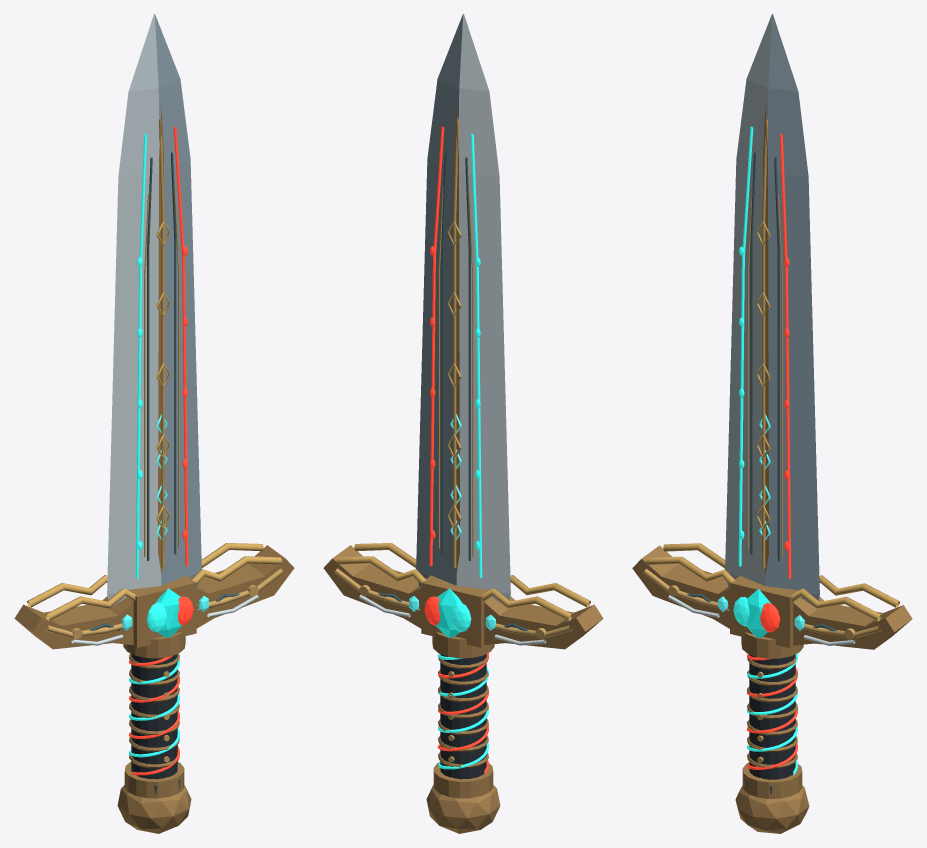
File: espada_renacida.glb
3 views of the same model, side by side, from view 1: azimuth 30°, elevation 25°; view 2: azimuth 150°, elevation 25°; view 3: azimuth 330°, elevation 25° (orthographic).
Visible parts, largest first — view 1: Hoja - acero facetado, Guarda alada, Empunadura, Pomo, Centro de la guarda, Union de las dos hojas, Nervio de la hoja, Doble luz de la hoja, Doble luz de la hoja.001, Collar inferior, Canal de acero.001, Canal de acero (+10 smaller); view 2: Hoja - acero facetado, Guarda alada, Empunadura, Pomo, Centro de la guarda, Union de las dos hojas.001, Nervio de la hoja.001, Doble luz de la hoja.002, Doble luz de la hoja.003, Collar inferior, Canal de acero.003, Canal de acero.002 (+10 smaller); view 3: Hoja - acero facetado, Guarda alada, Empunadura, Pomo, Centro de la guarda, Union de las dos hojas, Nervio de la hoja, Doble luz de la hoja.001, Doble luz de la hoja, Collar inferior, Canal de acero, Canal de acero.001 (+10 smaller).
Boxes of the visible parts, x1,y1,x2,y2 form: Hoja - acero facetado: (107, 14, 201, 606); Guarda alada: (14, 545, 294, 649); Empunadura: (131, 654, 177, 779); Pomo: (117, 784, 191, 833); Centro de la guarda: (128, 575, 196, 647); Union de las dos hojas: (159, 118, 164, 568); Nervio de la hoja: (158, 104, 164, 574); Doble luz de la hoja: (135, 133, 147, 578); Doble luz de la hoja.001: (173, 126, 188, 566); Collar inferior: (124, 761, 184, 798); Canal de acero.001: (171, 152, 176, 554); Canal de acero: (147, 157, 152, 560); Hoja - acero facetado: (416, 14, 510, 606); Guarda alada: (323, 545, 603, 649); Empunadura: (440, 654, 486, 779); Pomo: (426, 784, 500, 833); Centro de la guarda: (421, 575, 489, 647); Union de las dos hojas.001: (453, 118, 458, 568); Nervio de la hoja.001: (453, 104, 459, 574); Doble luz de la hoja.002: (470, 133, 482, 578); Doble luz de la hoja.003: (429, 126, 444, 566); Collar inferior: (433, 762, 493, 798); Canal de acero.003: (441, 152, 446, 554); Canal de acero.002: (465, 157, 470, 560); Hoja - acero facetado: (725, 14, 819, 606); Guarda alada: (632, 545, 912, 649); Empunadura: (749, 654, 795, 779); Pomo: (735, 785, 809, 833); Centro de la guarda: (730, 576, 798, 648); Union de las dos hojas: (762, 118, 767, 568); Nervio de la hoja: (762, 104, 768, 574); Doble luz de la hoja.001: (780, 134, 791, 578); Doble luz de la hoja: (738, 126, 753, 566); Collar inferior: (742, 762, 802, 798); Canal de acero: (750, 152, 755, 554); Canal de acero.001: (774, 157, 779, 561).
Bounding box in the file's own units: 2.32 × 6.9 × 0.58.
